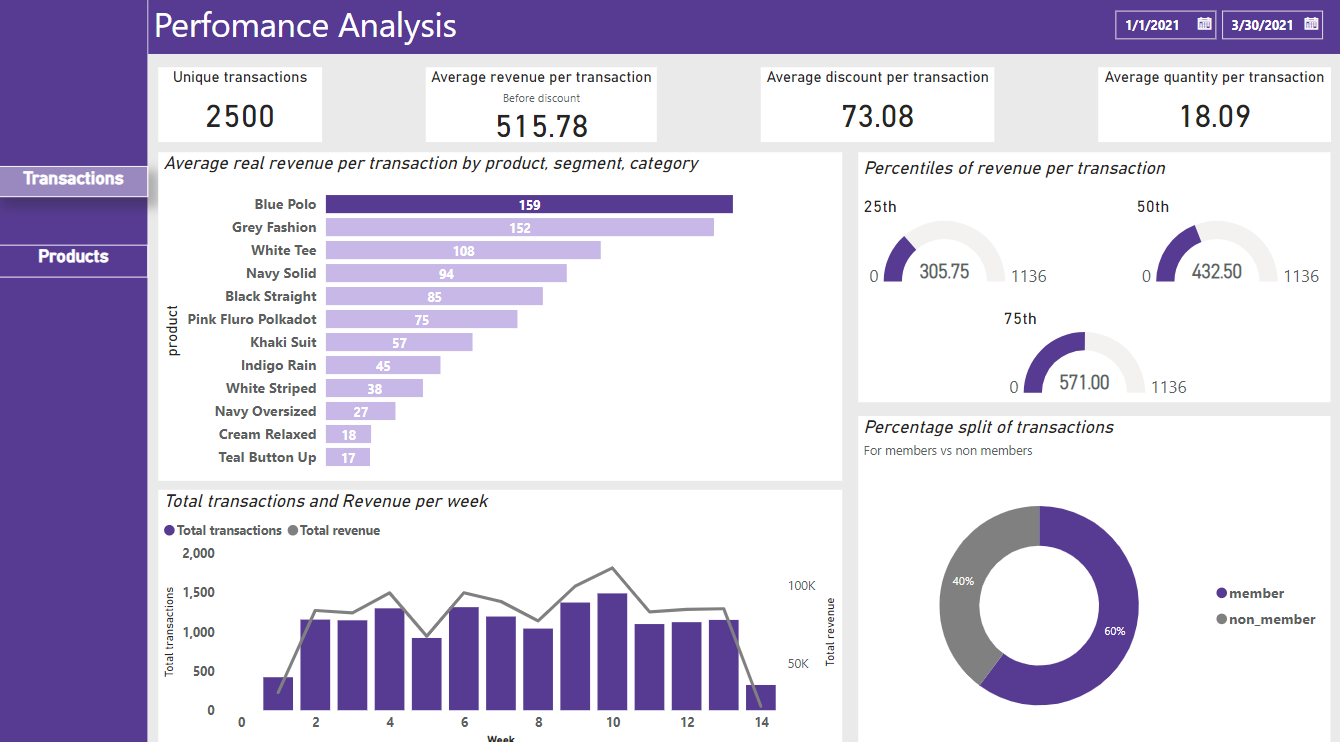

The page's visual inventory and layout, read from the dashboard file:
{"tool":"powerbi","page":{"name":"Page 1","canvas":[1280,720],"ordinal":0},"visuals":[{"type":"shape","box":[820,148.8,449.9,238],"z":0},{"type":"textbox","box":[0,0,143.5,720],"z":1000},{"type":"textbox","box":[143.5,0,1136.1,55.5],"z":2000},{"type":"actionButton","title":"Transactions","box":[0,161.9,144,29.8],"z":3000},{"type":"actionButton","title":"Products","box":[0,236.8,144,30.9],"z":4000},{"type":"slicer","title":"MONTH","fields":{"Values":["sales.start_txn_time"]},"box":[1052,3.6,217.8,46.4],"z":5000},{"type":"card","title":"Unique transactions","fields":{"Values":["Count(sales.txn_id)"]},"box":[153.5,67.8,155.9,71.4],"z":6000},{"type":"card","title":"Average revenue per transaction","fields":{"Values":["sales.avg_rev_transac"]},"box":[408.2,67.8,220.2,71.4],"z":7000},{"type":"card","title":"Average discount per transaction","fields":{"Values":["sales.avg_discount"]},"box":[727.1,67.8,222.5,71.4],"z":8000},{"type":"card","title":"Average quantity per transaction","fields":{"Values":["sales.avg_qty_transac"]},"box":[1048.5,67.8,221.4,71.4],"z":9000},{"type":"barChart","title":"Average real revenue per transaction by product, segment, category","fields":{"Category":["product_details.style_name","product_details.category_name","product_details.segment_name"],"Y":["sales.avg_rev_transac_after"]},"box":[153.5,148.8,651,313],"z":10000},{"type":"donutChart","title":"Percentage split of transactions","fields":{"Category":["sales.member_type"],"Y":["Count(sales.txn_id)"]},"box":[820,399.9,449.9,320.1],"z":11000},{"type":"lineStackedColumnComboChart","title":"Total transactions and Revenue per week","fields":{"Category":["sales.week"],"Y2":["Sum(sales.revenue_after_discount)"],"Y":["CountNonNull(sales.txn_id)"]},"box":[153.5,470.1,651,249.9],"z":12000},{"type":"gauge","title":"75th ","fields":{"Y":["revenue_distinct_txnid.SeventyFifthPercentile"],"MaxValue":["Max(revenue_distinct_txnid.sum)"]},"box":[953.3,297.5,190.4,90.4],"z":13000},{"type":"gauge","title":"50th ","fields":{"Y":["revenue_distinct_txnid.FiftiethPercentile"],"MaxValue":["Max(revenue_distinct_txnid.sum)"]},"box":[1079.4,191.6,190.4,90.4],"z":14000},{"type":"gauge","title":"25th","fields":{"Y":["revenue_distinct_txnid.TwentyFifthPercentile"],"MaxValue":["Max(revenue_distinct_txnid.sum)"]},"box":[820,191.6,190.4,90.4],"z":15000},{"type":"textbox","box":[820,148.8,391.5,46.4],"z":16000}]}

Visuals, with their boxes in screenshot pixels (x1, y1, x2, y2), scaled from the page's 1280x720 canvas onto the 1340x742 screenshot:
shape: (left=858, top=153, right=1329, bottom=399)
textbox: (left=0, top=0, right=150, bottom=741)
textbox: (left=150, top=0, right=1339, bottom=57)
"Transactions" actionButton: (left=0, top=167, right=151, bottom=198)
"Products" actionButton: (left=0, top=244, right=151, bottom=276)
"MONTH" slicer: (left=1101, top=4, right=1329, bottom=52)
"Unique transactions" card: (left=161, top=70, right=324, bottom=143)
"Average revenue per transaction" card: (left=427, top=70, right=658, bottom=143)
"Average discount per transaction" card: (left=761, top=70, right=994, bottom=143)
"Average quantity per transaction" card: (left=1098, top=70, right=1329, bottom=143)
"Average real revenue per transaction by product, segment, category" barChart: (left=161, top=153, right=842, bottom=476)
"Percentage split of transactions" donutChart: (left=858, top=412, right=1329, bottom=741)
"Total transactions and Revenue per week" lineStackedColumnComboChart: (left=161, top=484, right=842, bottom=741)
"75th " gauge: (left=998, top=307, right=1197, bottom=400)
"50th " gauge: (left=1130, top=197, right=1329, bottom=291)
"25th" gauge: (left=858, top=197, right=1058, bottom=291)
textbox: (left=858, top=153, right=1268, bottom=201)
